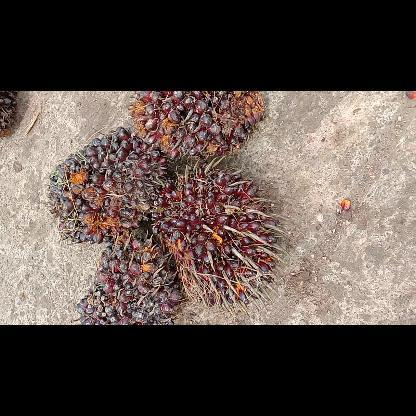Kurang masak: (150, 161, 280, 311), (40, 124, 176, 245), (124, 91, 266, 165), (76, 232, 184, 324)
